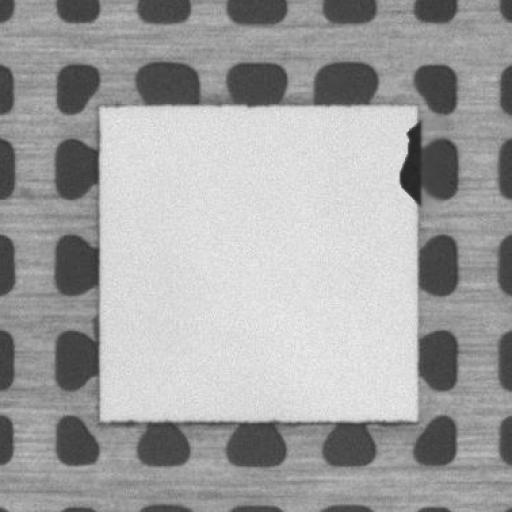DIE_BROKEN: (397, 114, 422, 202)
